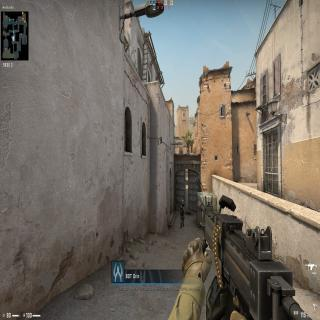CT-Head: (182, 203, 184, 206)
